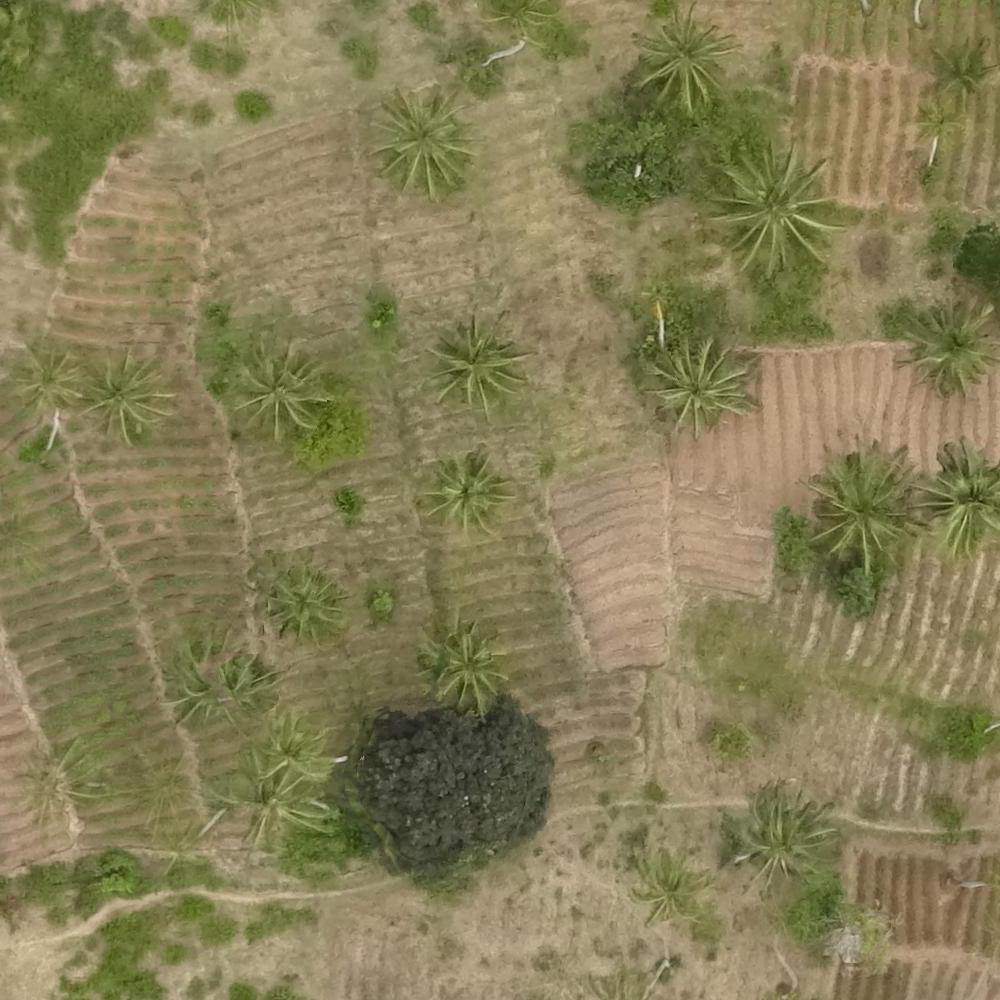Palm: (713, 150, 836, 266), (804, 448, 911, 564), (724, 783, 829, 882), (368, 95, 467, 189), (913, 442, 995, 554), (631, 13, 731, 104), (903, 297, 998, 392), (654, 335, 749, 429), (424, 318, 521, 404), (232, 344, 326, 430), (425, 456, 513, 534), (88, 351, 170, 433), (418, 628, 504, 705), (260, 568, 345, 645), (14, 341, 91, 411), (630, 854, 705, 923)
